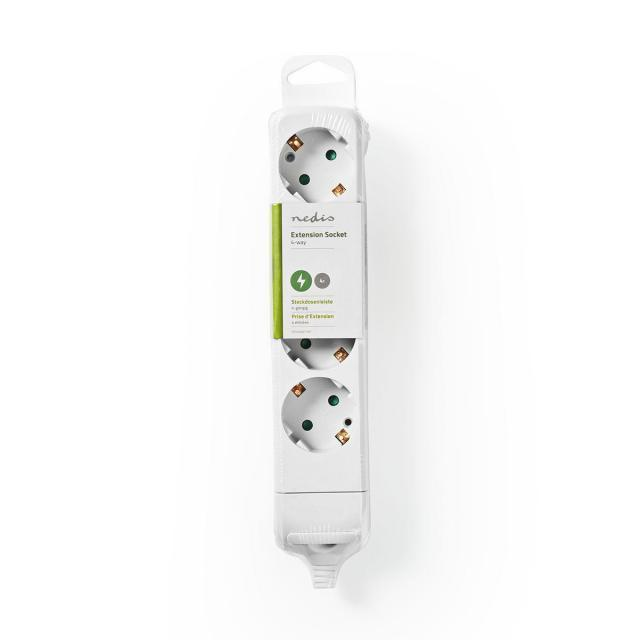typeb: (236, 103, 417, 548)
